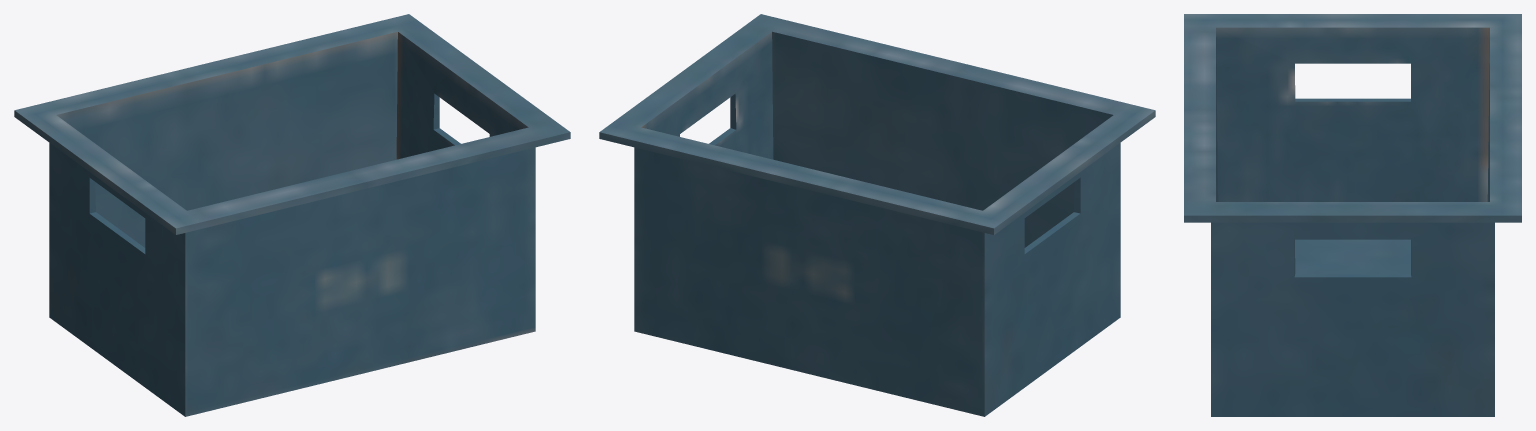
File: Garage_PlasticBox.FBX
3 renders of one model, left to right at view 1: azimuth 30°, elevation 25°; view 2: azimuth 150°, elevation 25°; view 3: azimuth 270°, elevation 25°, orthographic. The views are drawn at different scales.
Visible parts, largest first — view 1: Garage_PlasticBox; view 2: Garage_PlasticBox; view 3: Garage_PlasticBox.
Boxes of the visible parts, x1,y1,x2,y2 form: Garage_PlasticBox: [14, 14, 570, 416]; Garage_PlasticBox: [599, 14, 1155, 416]; Garage_PlasticBox: [1184, 14, 1521, 416].
Bounding box in the file's own units: 59.1 × 29.09 × 41.88.
